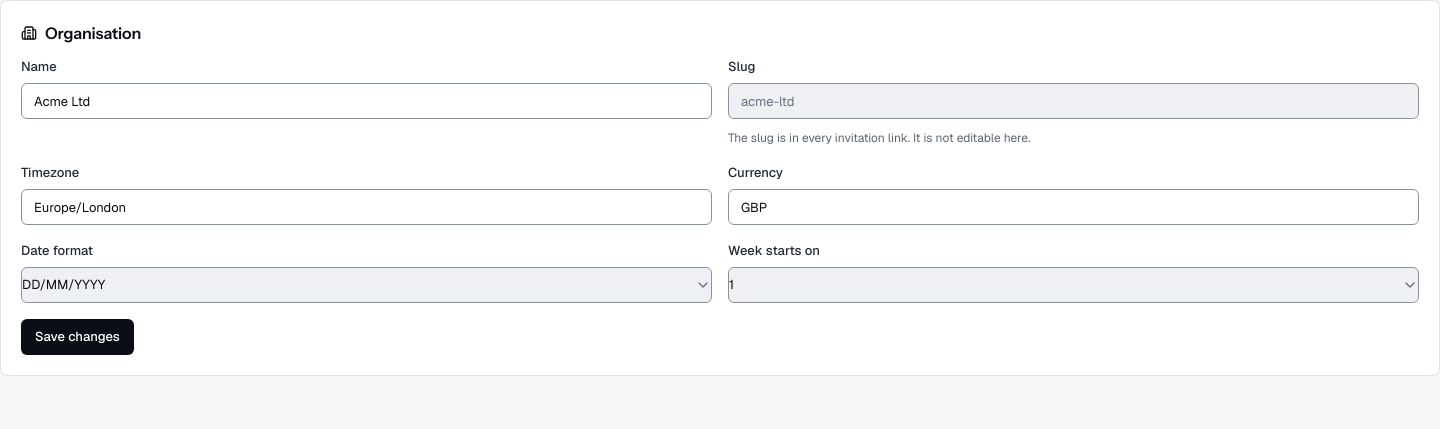
Scenario: saving › reports an unreachable server rather than failing silently
Expected: the field labelled "Name" is shown, [21,83,712,119]
What coordinates should you click on to do the following:
click the button "Save changes"
I would click on:
 (77, 337)
Its box is [21,319,134,355].
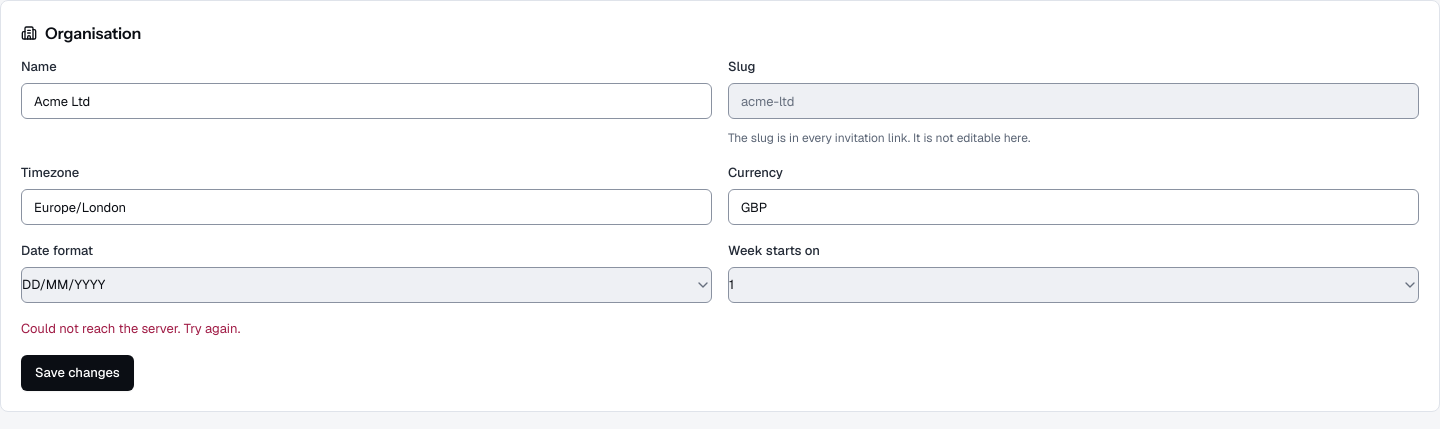
Now the text "Could not reach the server. Try again." is shown, box [21,320,240,337]
